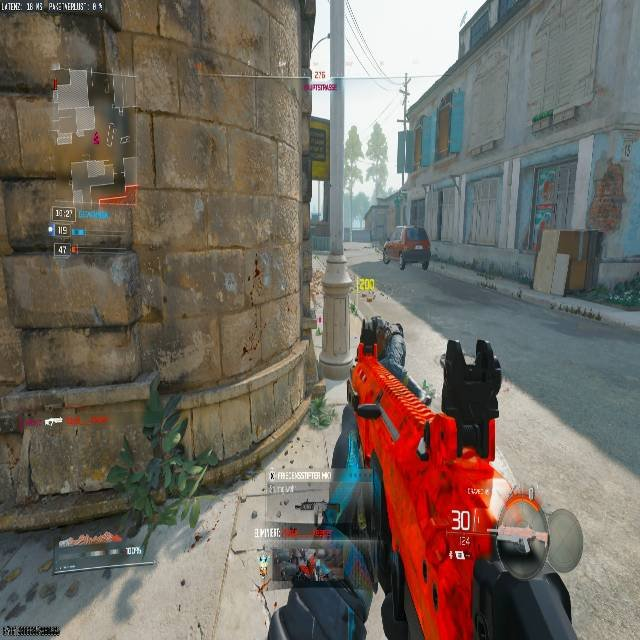head: (360, 315, 387, 345)
